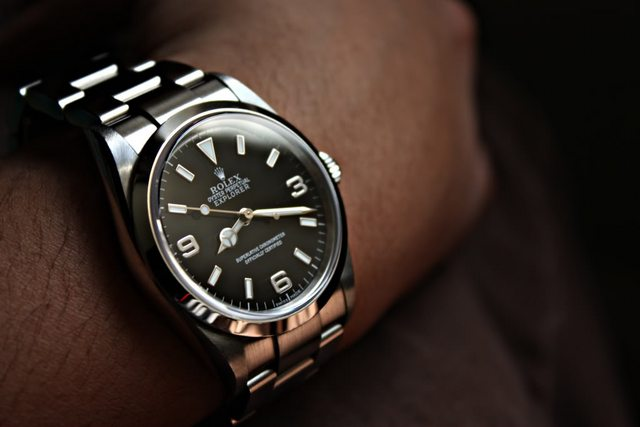clock: (154, 110, 338, 317)
